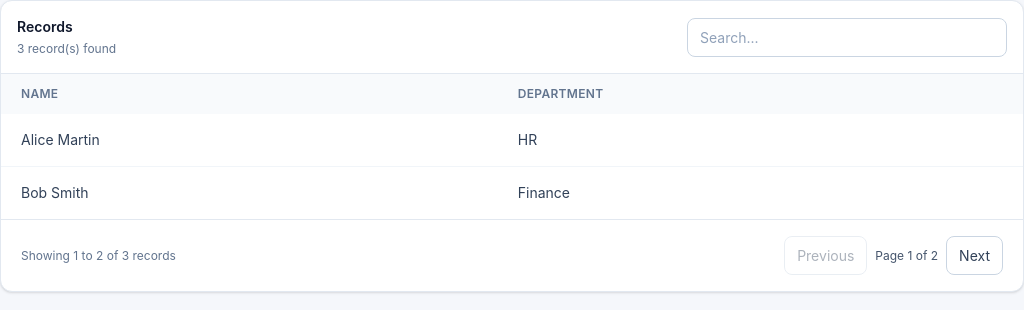
Scenario: DataTable › resets pagination to the first page when searching
Click the button "Next" at [975, 256], box [946,236,1003,275]
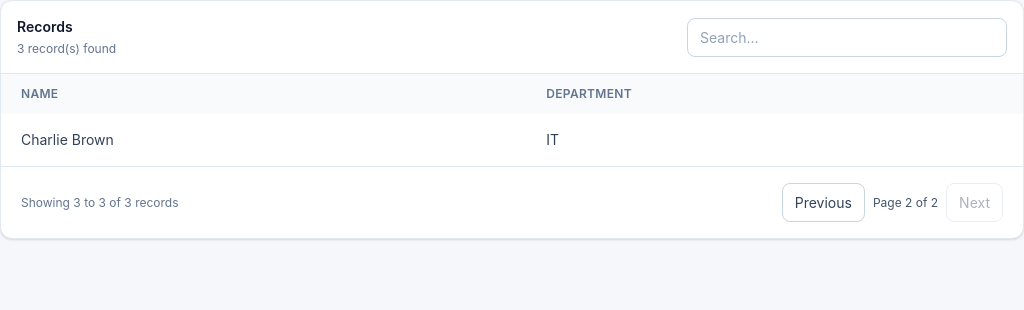
Result: the text "Page 2 of 2" is shown at [873,194,938,210]
Type "Alice" into the search field named "Search records" at [847, 37], box [687,18,1007,56]
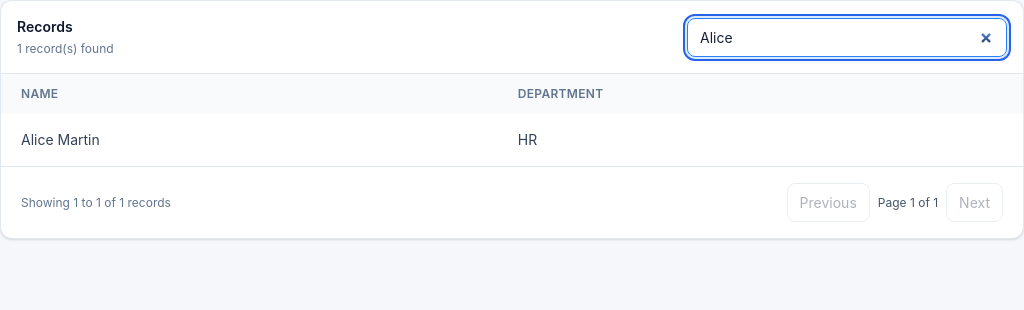
Result: the text "Page 1 of 1" is shown at [878,194,938,210]
Result: the text "Alice Martin" is shown at [1,114,498,166]
